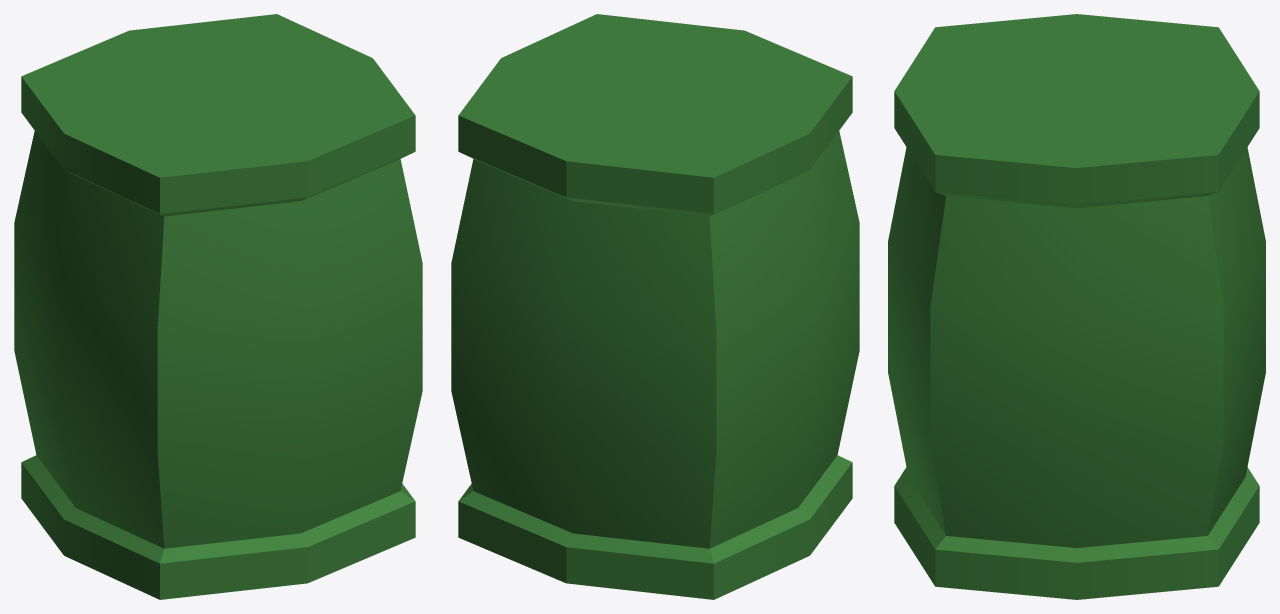
File: OBJ_Bucket_01.FBX
3 renders of one model, left to right at view 1: azimuth 30°, elevation 25°; view 2: azimuth 150°, elevation 25°; view 3: azimuth 270°, elevation 25°, orthographic. The views are drawn at different scales.
Parts seen in each view (by area): view 1: OBJ_Bucket_01; view 2: OBJ_Bucket_01; view 3: OBJ_Bucket_01.
Boxes of the visible parts, x1,y1,x2,y2 form: OBJ_Bucket_01: [14, 14, 422, 599]; OBJ_Bucket_01: [451, 14, 859, 599]; OBJ_Bucket_01: [888, 14, 1265, 599].
Bounding box in the file's own units: 2.42 × 3.05 × 2.42.
